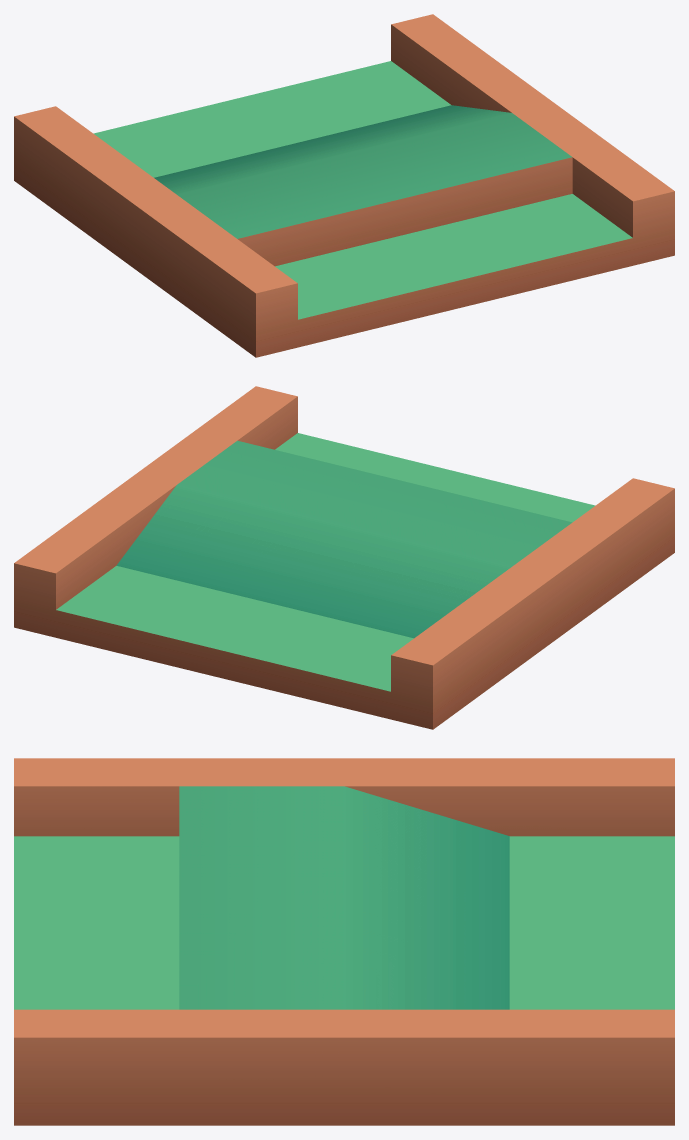
The model's file is ramp-square.glb.
The picture shows the model from 3 angles, top to bottom: view 1: azimuth 30°, elevation 25°; view 2: azimuth 150°, elevation 25°; view 3: azimuth 270°, elevation 25°; orthographic projection. The views are drawn at different scales.
Parts seen in each view (by area): view 1: ramp-square; view 2: ramp-square; view 3: ramp-square.
Boxes of the visible parts, bbox=[...] form: ramp-square: bbox=[14, 14, 674, 357]; ramp-square: bbox=[14, 386, 674, 729]; ramp-square: bbox=[14, 758, 674, 1125].
Size of the model in its own units: 0.9999 by 0.1467 by 0.9999.
1 material, 1 textured.
